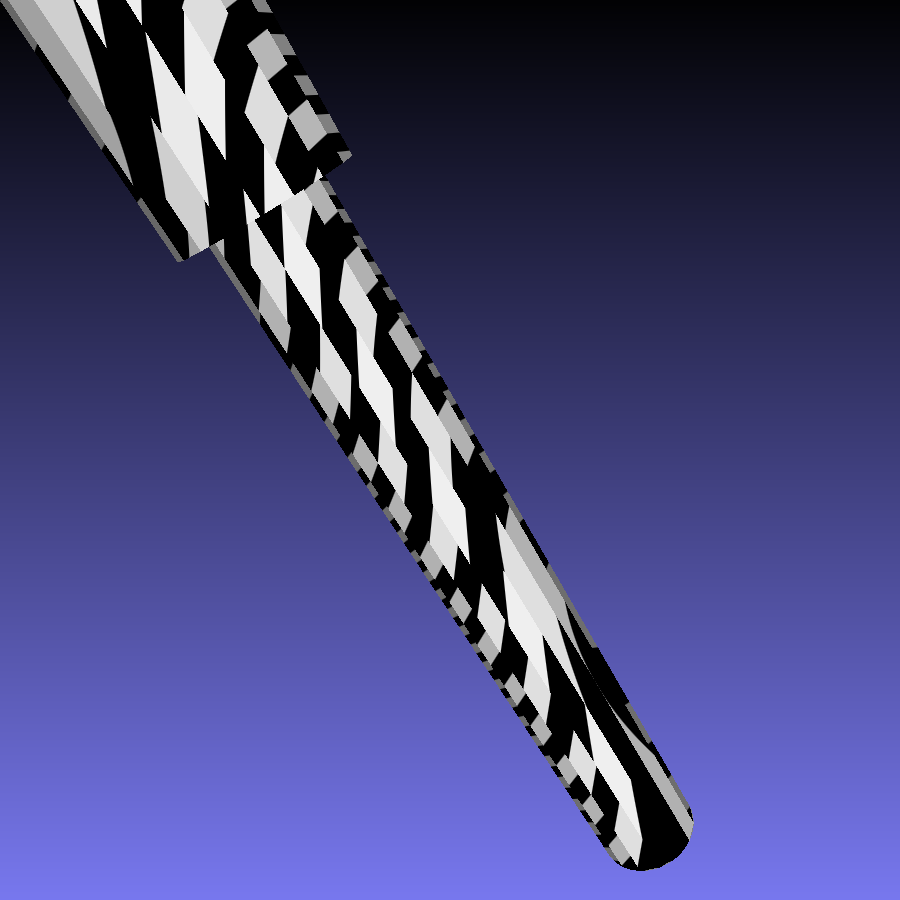cargo_g: (1, 1, 693, 871)
